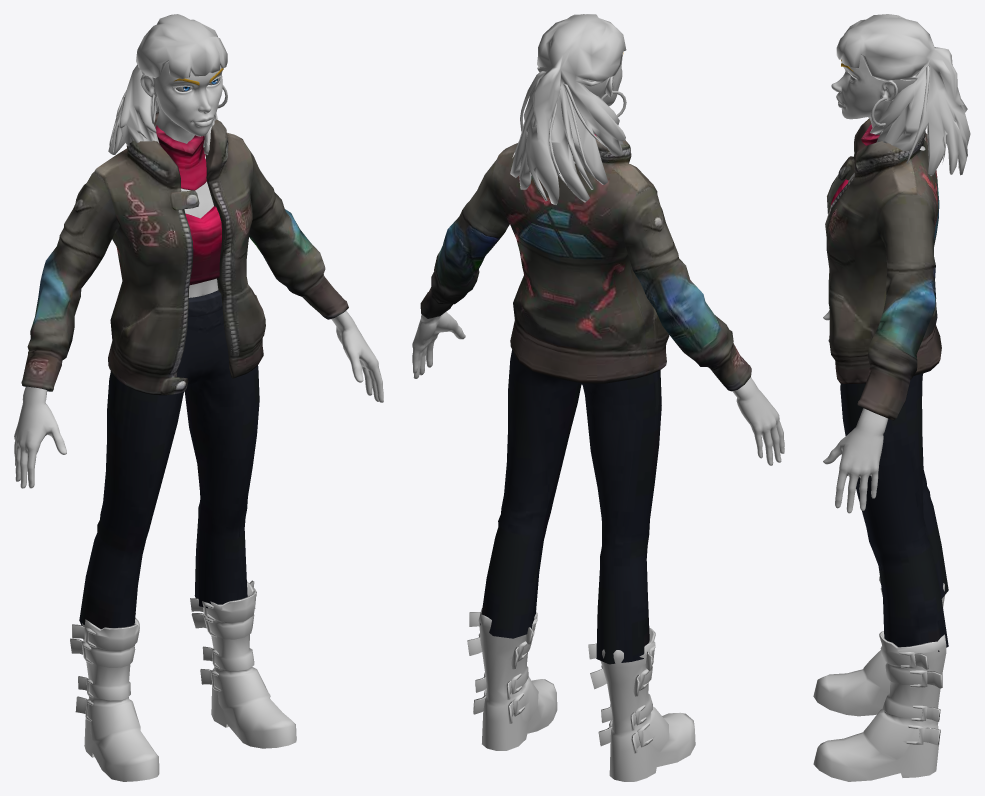
File: W Character 21.fbx
3 views of the same model, side by side, from view 1: azimuth 30°, elevation 25°; view 2: azimuth 150°, elevation 25°; view 3: azimuth 270°, elevation 25° (orthographic).
Parts seen in each view (by area): view 1: Wolf3D_Outfit_Top.009, Wolf3D_Outfit_Bottom.018, Wolf3D_Outfit_Footwear.011, Wolf3D_Hair.006, body.001, head, body.002; view 2: Wolf3D_Outfit_Top.009, Wolf3D_Outfit_Bottom.018, Wolf3D_Outfit_Footwear.011, Wolf3D_Hair.006, body.001, head; view 3: Wolf3D_Outfit_Top.009, Wolf3D_Outfit_Bottom.018, Wolf3D_Outfit_Footwear.011, Wolf3D_Hair.006, body.001, head.
Part boxes in pixels (bbox=[...]): Wolf3D_Outfit_Top.009: bbox=[21, 112, 348, 395]; Wolf3D_Outfit_Bottom.018: bbox=[79, 290, 259, 629]; Wolf3D_Outfit_Footwear.011: bbox=[70, 580, 296, 781]; Wolf3D_Hair.006: bbox=[108, 14, 227, 154]; body.001: bbox=[14, 311, 383, 488]; head: bbox=[140, 62, 223, 143]; body.002: bbox=[181, 155, 218, 297]; Wolf3D_Outfit_Top.009: bbox=[420, 134, 751, 391]; Wolf3D_Outfit_Bottom.018: bbox=[480, 350, 661, 664]; Wolf3D_Outfit_Footwear.011: bbox=[467, 608, 695, 781]; Wolf3D_Hair.006: bbox=[510, 14, 626, 204]; body.001: bbox=[412, 311, 784, 465]; head: bbox=[539, 52, 623, 163]; Wolf3D_Outfit_Top.009: bbox=[825, 118, 941, 420]; Wolf3D_Outfit_Bottom.018: bbox=[840, 373, 948, 651]; Wolf3D_Outfit_Footwear.011: bbox=[813, 576, 946, 781]; Wolf3D_Hair.006: bbox=[836, 14, 970, 175]; body.001: bbox=[823, 310, 888, 513]; head: bbox=[831, 55, 925, 150].
Bounding box in the file's own units: 96.47 × 185 × 36.73.
